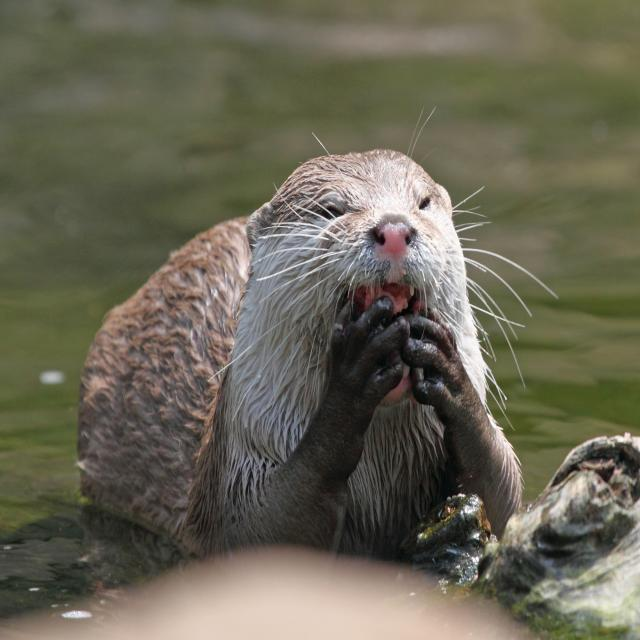otter: (81, 151, 520, 552)
